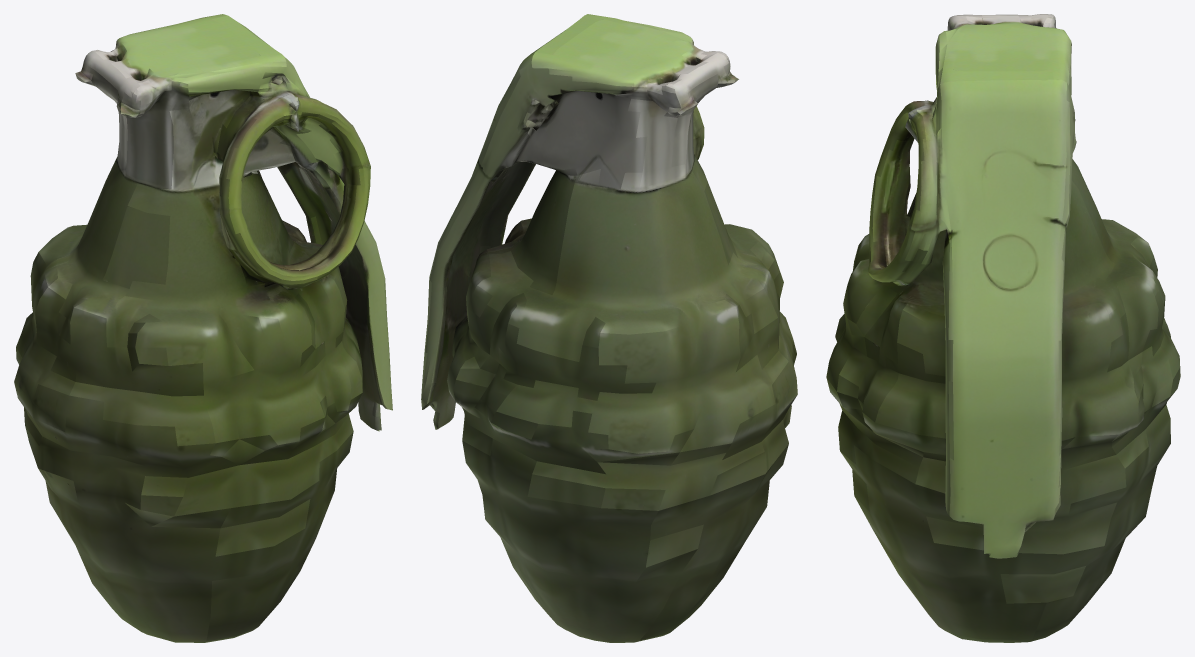
Rendered from Meshy_AI_Grenade.glb.
The picture shows the model from 3 angles, left to right: view 1: azimuth 30°, elevation 25°; view 2: azimuth 150°, elevation 25°; view 3: azimuth 270°, elevation 25°; orthographic projection.
Parts seen in each view (by area): view 1: Mesh0; view 2: Mesh0; view 3: Mesh0.
Part boxes in pixels (x1,y1,x2,y2): Mesh0: (14,14,392,642); Mesh0: (421,14,797,642); Mesh0: (826,14,1180,642).
Size of the model in its own units: 1.24 by 2 by 1.13.
Materials: 1 (1 with a texture image).
